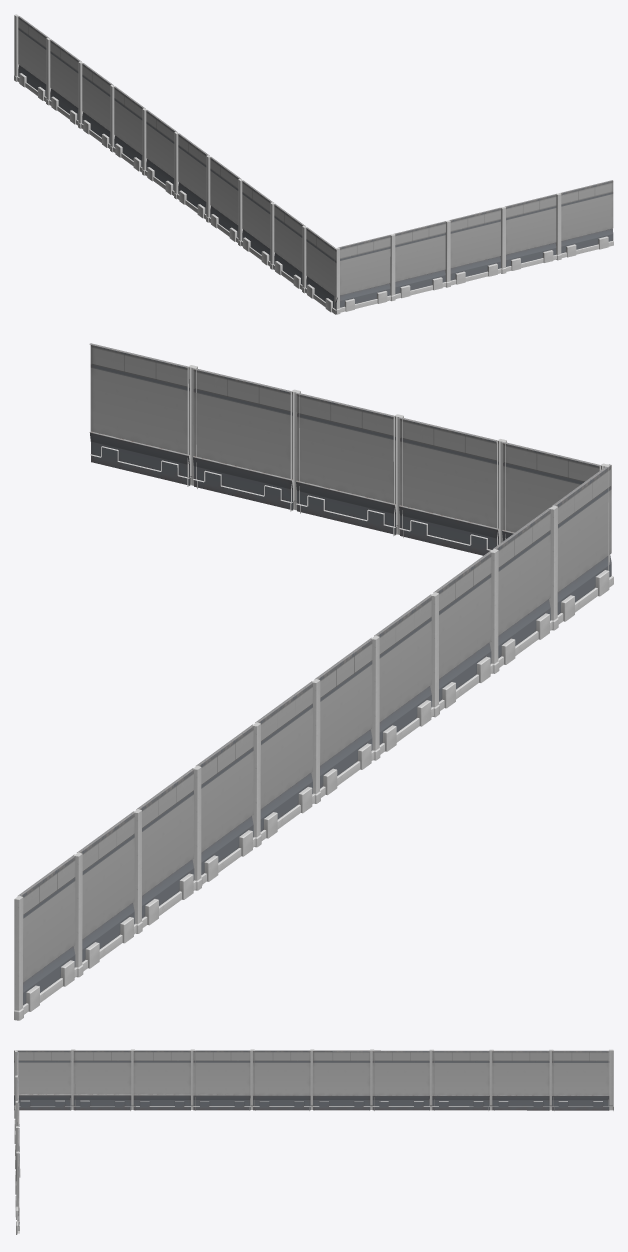
Rendered from Pfb_JALB_WallPart2_Line.fbx.
3 views of the same model, one above another, from view 1: azimuth 30°, elevation 25°; view 2: azimuth 150°, elevation 25°; view 3: azimuth 270°, elevation 25° (orthographic). The views are drawn at different scales.
Visible parts, largest first — view 1: MAT_JLABWall; view 2: MAT_JLABWall; view 3: MAT_JLABWall.
Part boxes in pixels (box(x1,y1,x2,y2)): MAT_JLABWall: box(14, 14, 613, 314); MAT_JLABWall: box(14, 343, 613, 1020); MAT_JLABWall: box(14, 1049, 613, 1234).
Size of the model in its own units: 18.26 by 4.07 by 36.14.
1 material, 1 textured.
